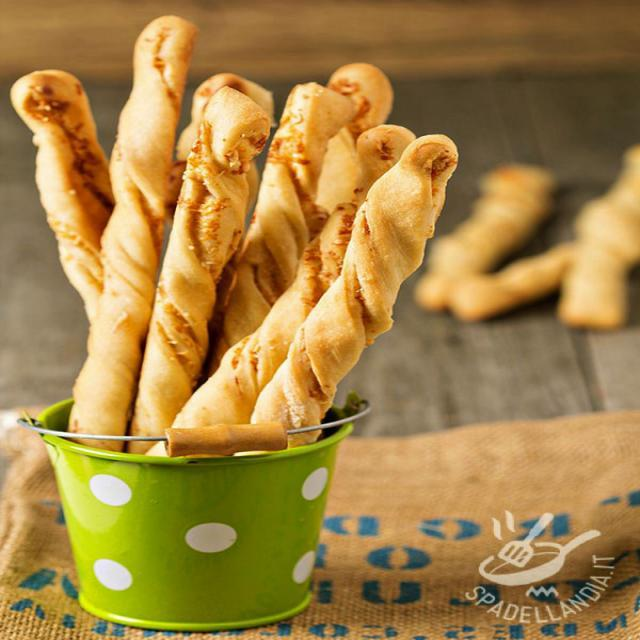Grissini: (29, 31, 458, 453)
